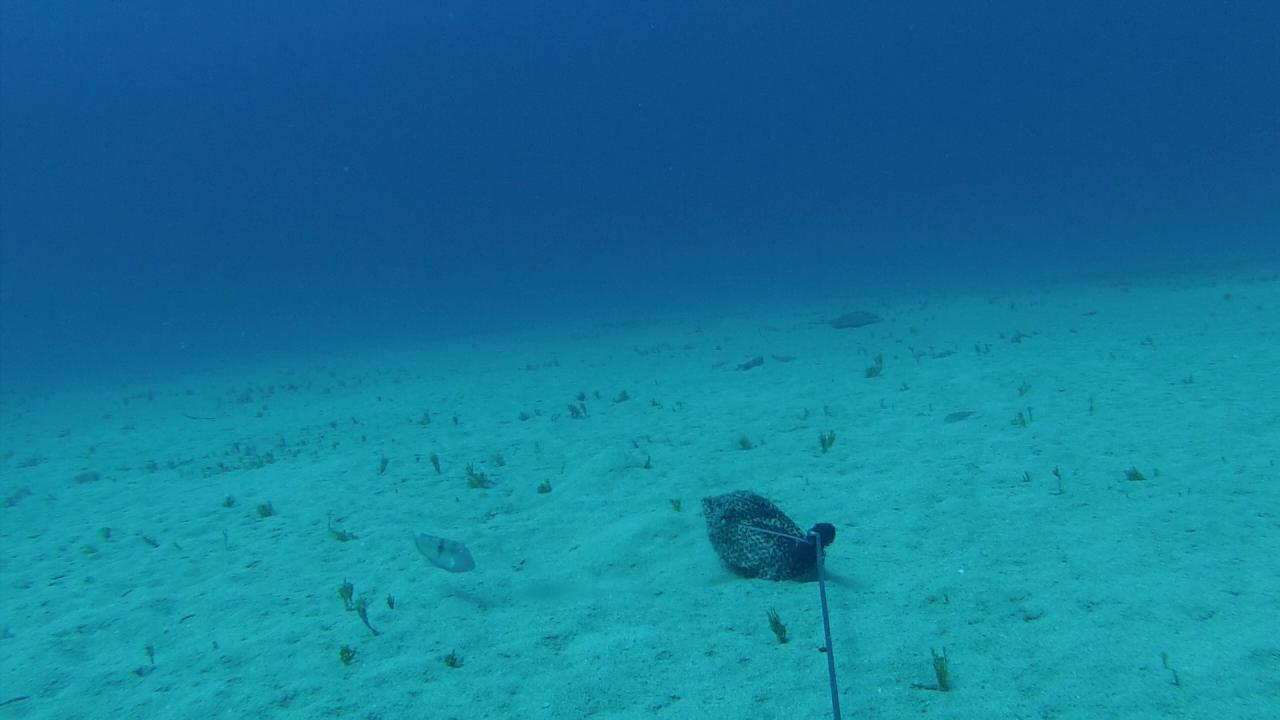dasyatis: (804, 309, 885, 330)
